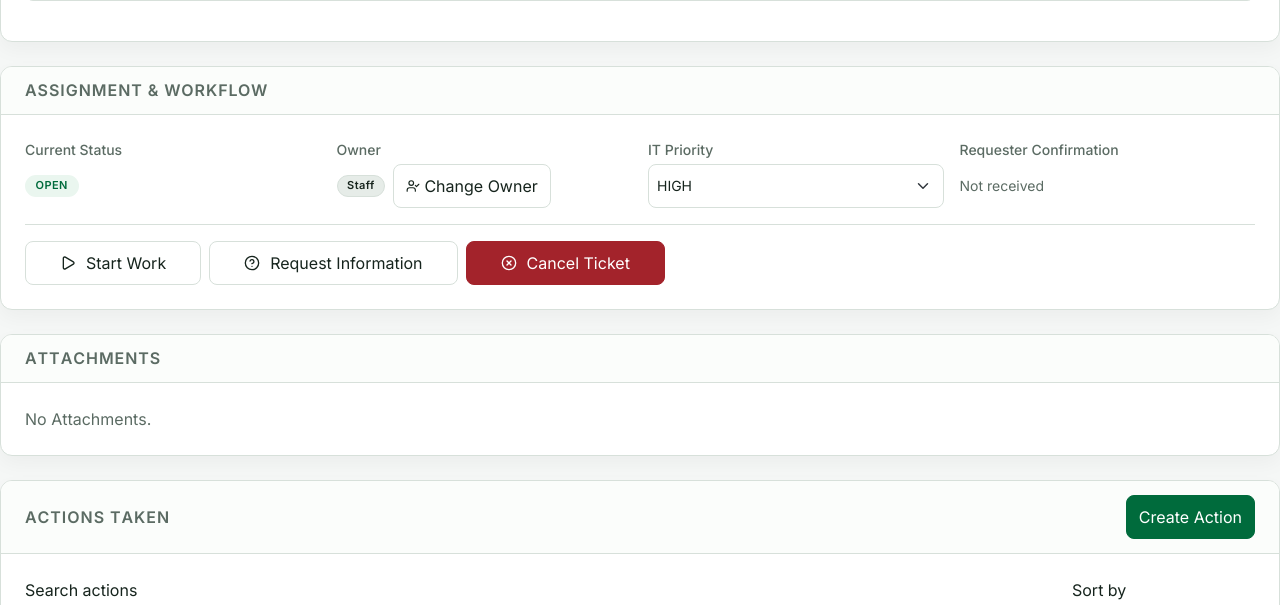
Test case: UI-15–20/22 Staff Detail @issue-5 › UI-16 conflict preserves current state and requires Refresh Ticket
This screenshot has width=1280, height=605.
(page scrolled)
Click the button "Start Work".
click(113, 263)  # box [25,241,201,285]
(page scrolled)
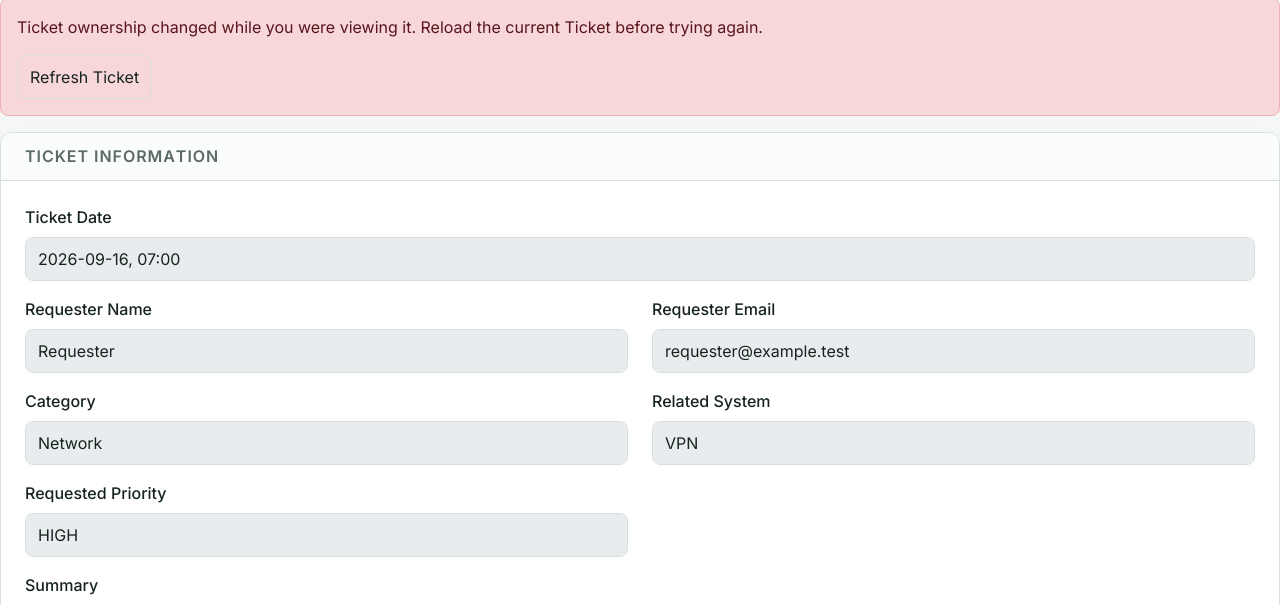
Expected: the message shows "Ticket ownership changed", [17,17,763,37]
Click the button "Refresh Ticket".
click(85, 77)  # box [17,55,152,99]
(page scrolled)
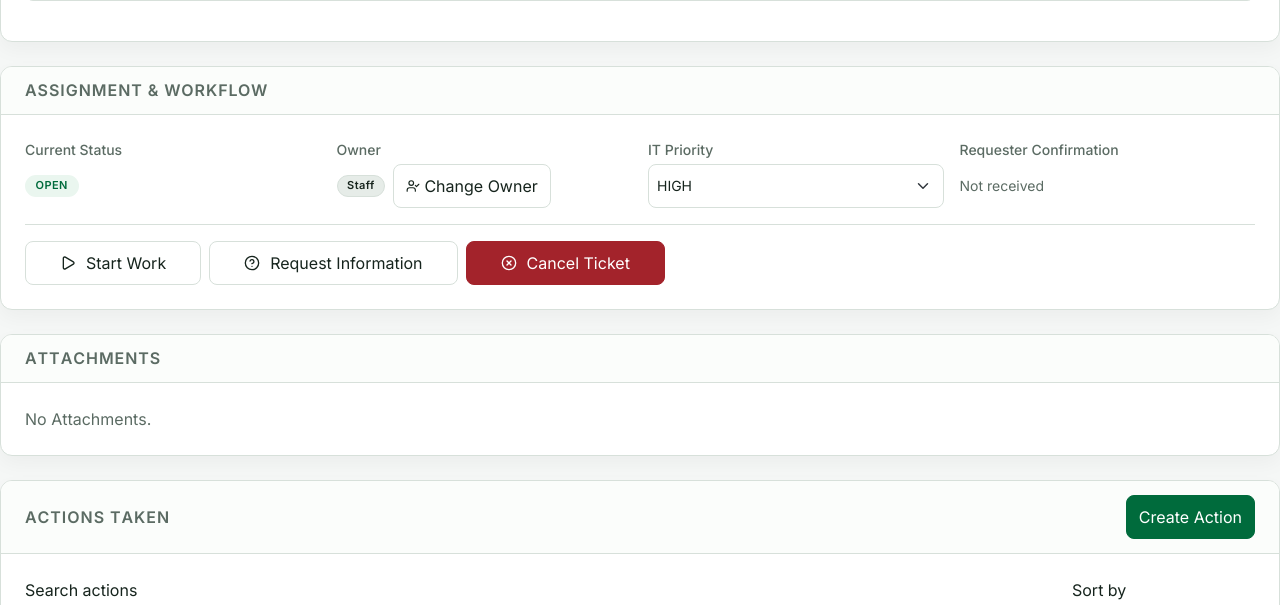
Expected: the button "Start Work" is enabled, [25,241,201,285]
